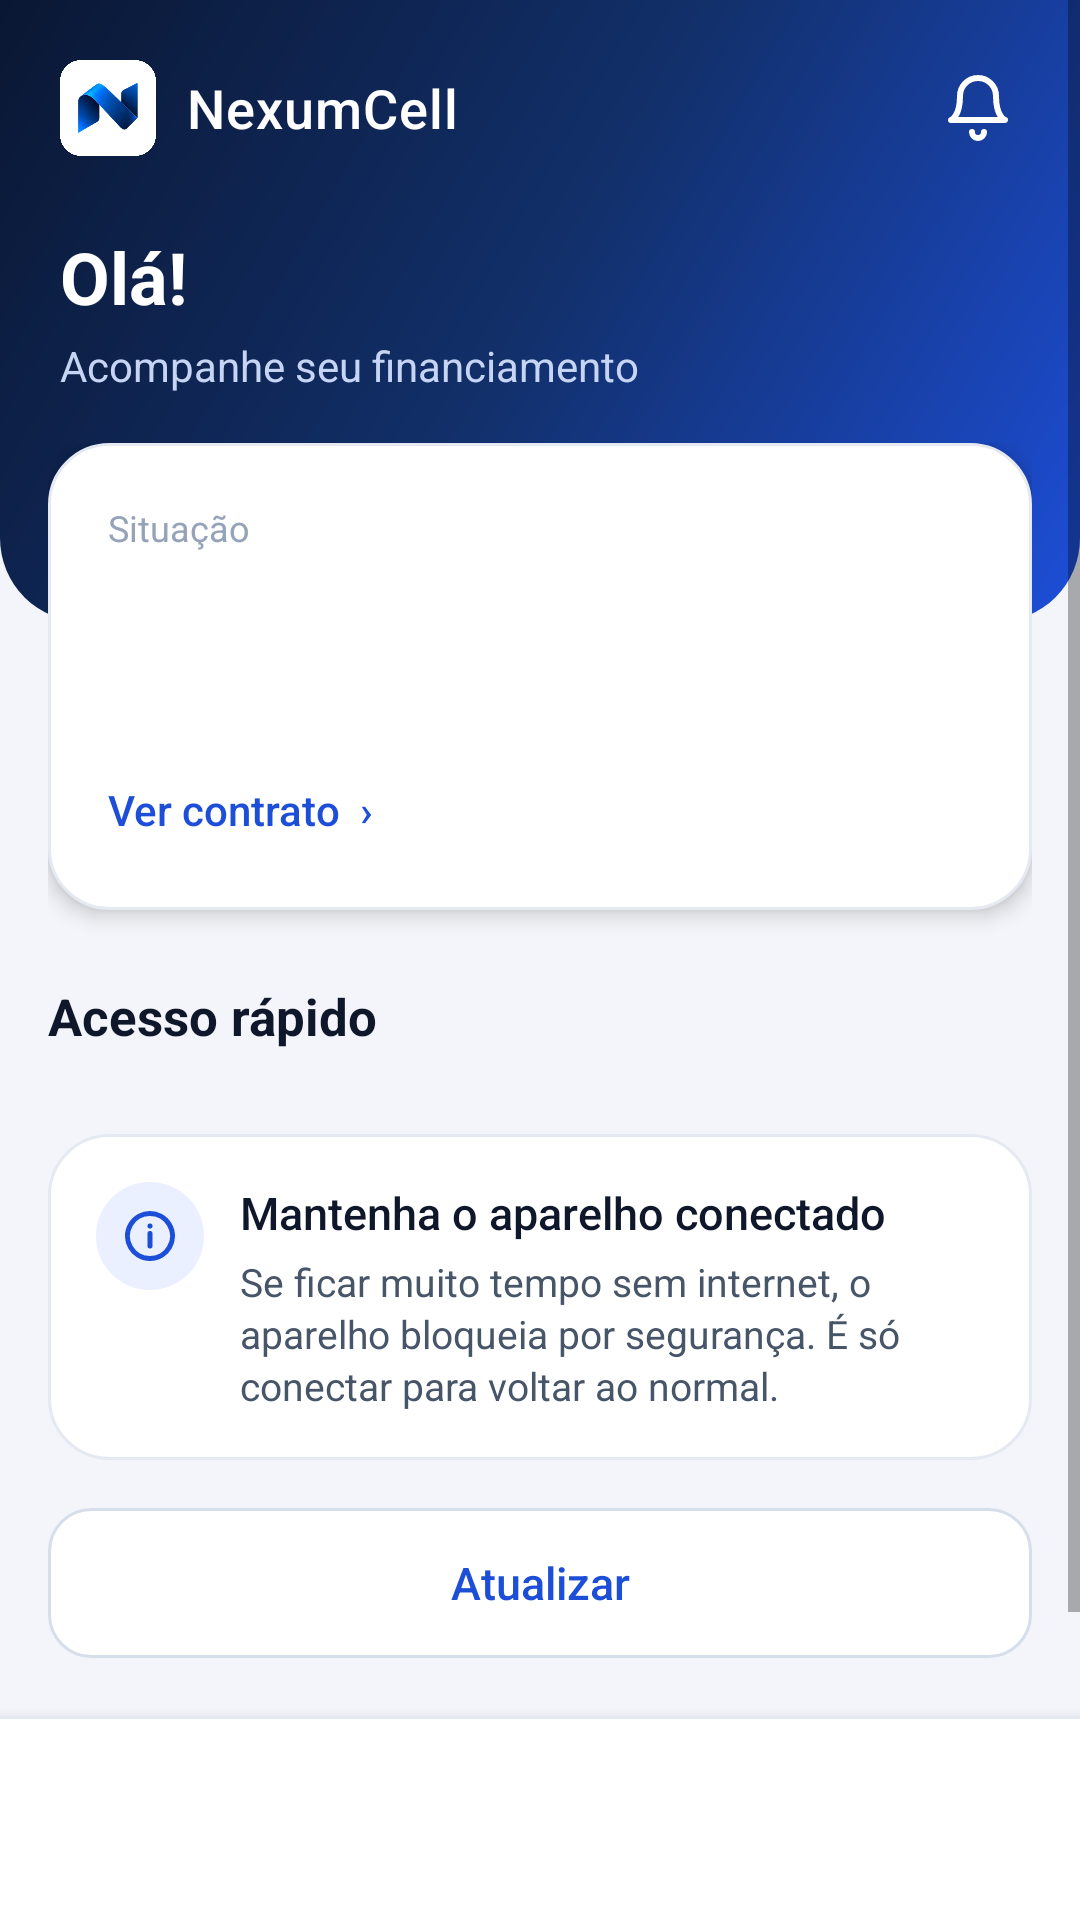

Point at icon controls on the screen. Image size 1080x1920, points as point (x, y).
Aviso: point (150, 1236)
Avisos: point (978, 108)
